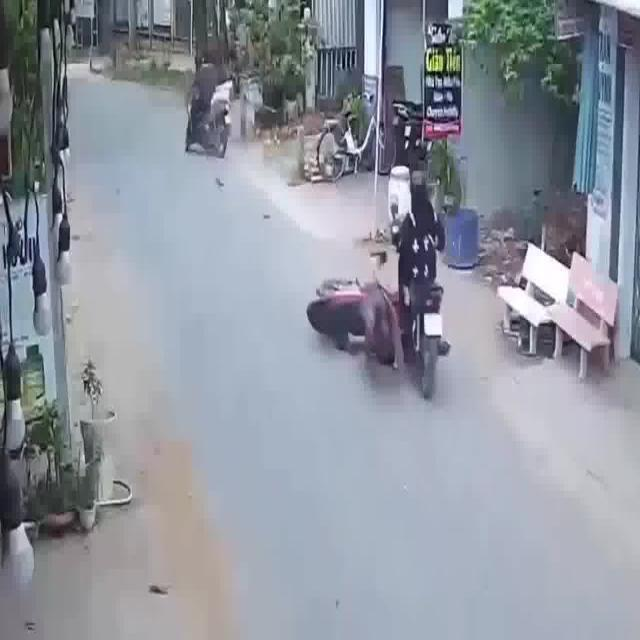multiple_accident: (301, 165, 456, 412)
